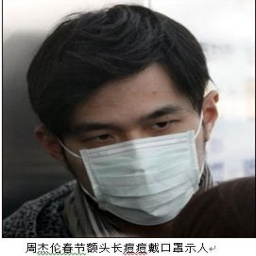correctlyWear: (32, 84, 219, 224)
